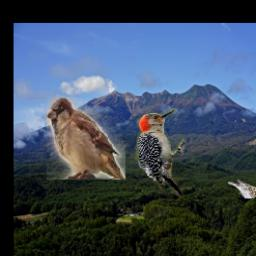Sparrow: (47, 98, 125, 181), (229, 181, 256, 199)
Woodpecker: (133, 107, 186, 201)
